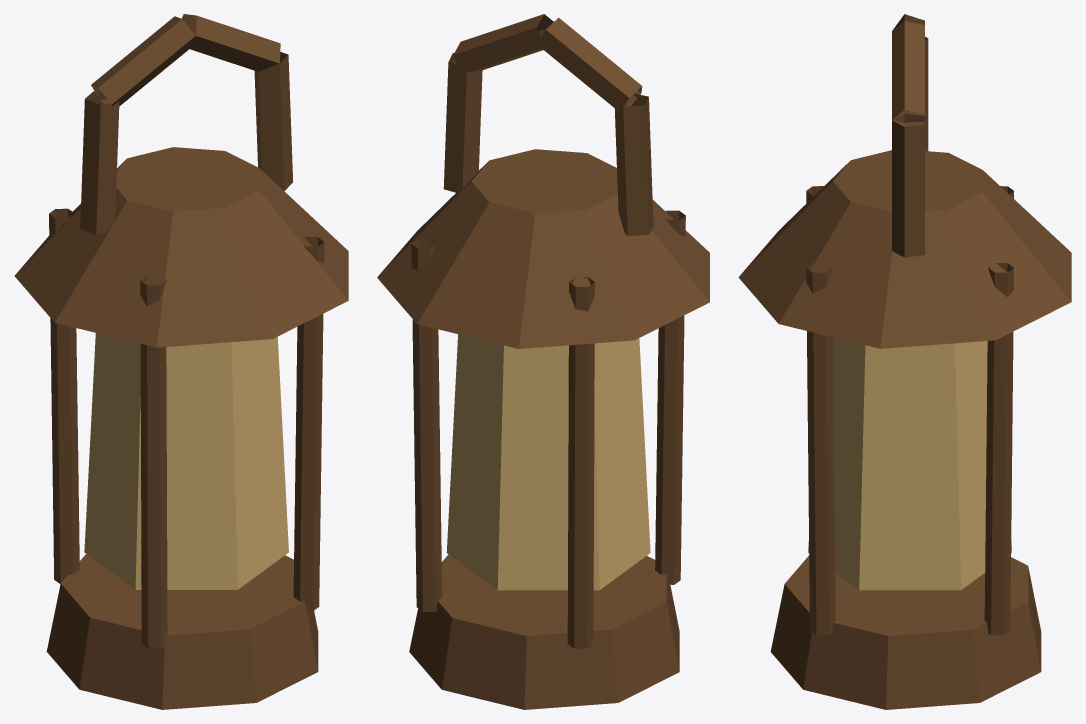
3 renders of one model, left to right at view 1: azimuth 30°, elevation 25°; view 2: azimuth 150°, elevation 25°; view 3: azimuth 270°, elevation 25°, orthographic.
Visible parts, largest first — view 1: C16_高柄营灯; view 2: C16_高柄营灯; view 3: C16_高柄营灯.
Boxes of the visible parts, <box> form: C16_高柄营灯: <box>14,14,348,709</box>; C16_高柄营灯: <box>377,14,709,709</box>; C16_高柄营灯: <box>738,14,1071,709</box>.
Bounding box in the file's own units: 0.3151 × 0.6522 × 0.3104.
